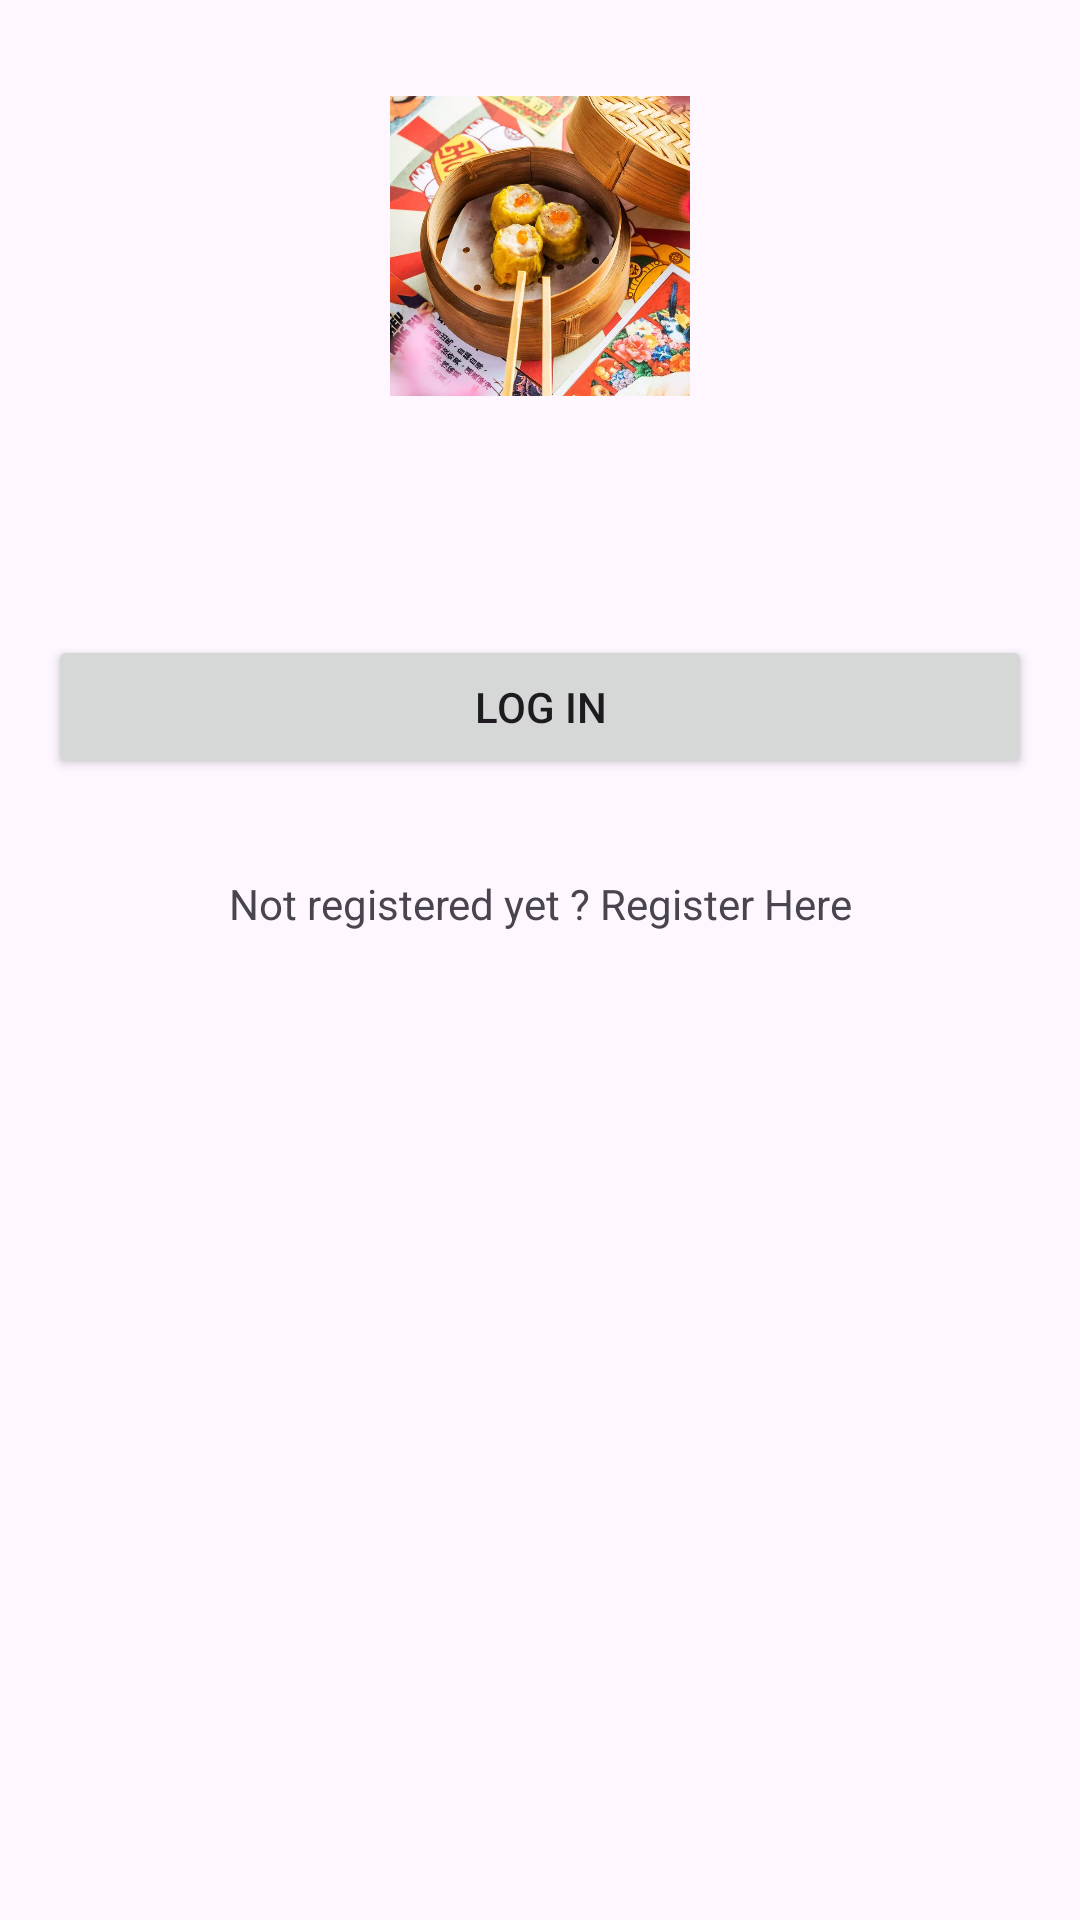

Screen size 1080 x 1920. Icon name, then its center in pixels as (x=x, y=y):
dimsum: (x=540, y=246)
